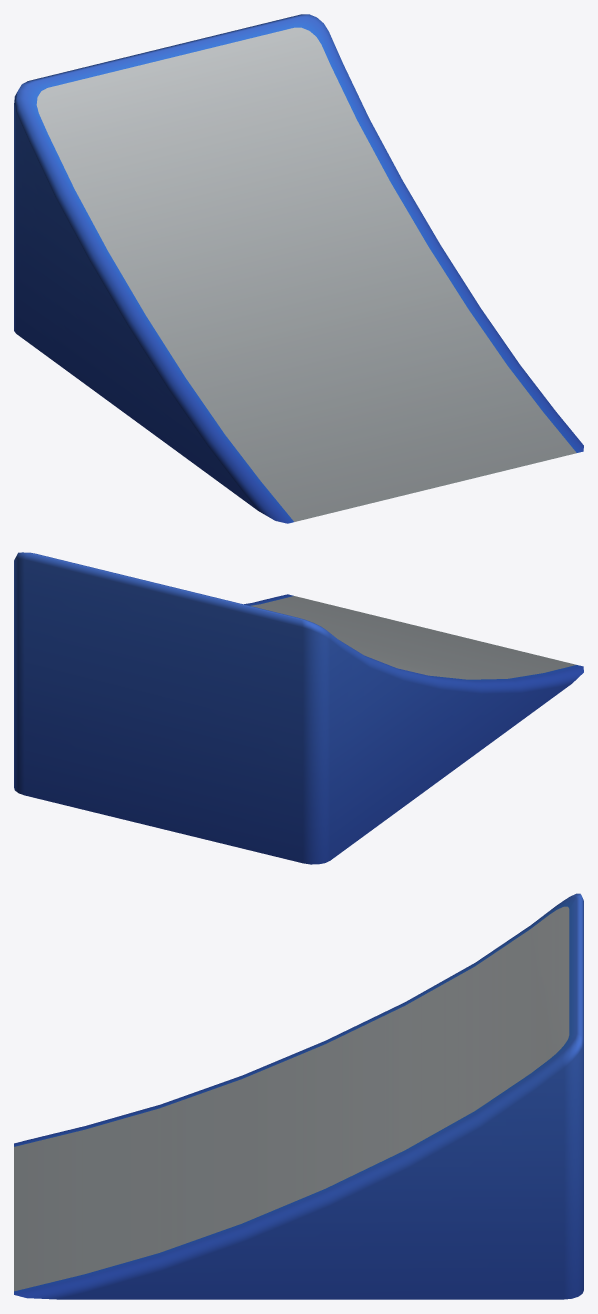
Rendered from Trampoline_04.fbx.
3 views of the same model, one above another, from view 1: azimuth 30°, elevation 25°; view 2: azimuth 150°, elevation 25°; view 3: azimuth 270°, elevation 25° (orthographic). The views are drawn at different scales.
Visible parts, largest first — view 1: Trampoline_04; view 2: Trampoline_04; view 3: Trampoline_04.
Boxes of the visible parts, box(x1,y1,x2,y2) form: Trampoline_04: box(14, 14, 583, 523); Trampoline_04: box(14, 552, 583, 864); Trampoline_04: box(14, 893, 583, 1299).
Size of the model in its own units: 400 by 600 by 294.
